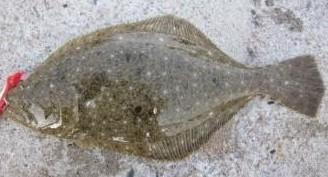fish: (3, 15, 325, 161)
